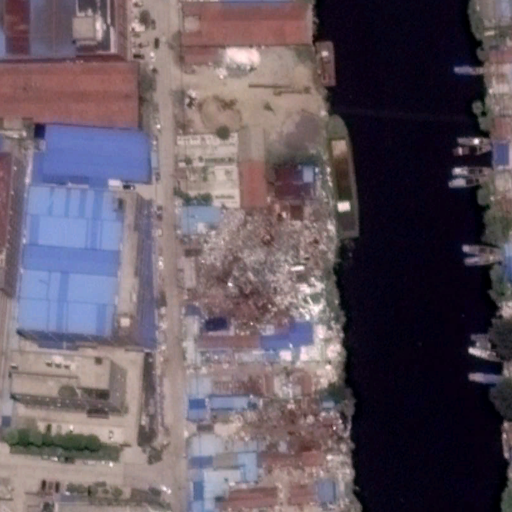msw: (187, 199, 351, 461)
